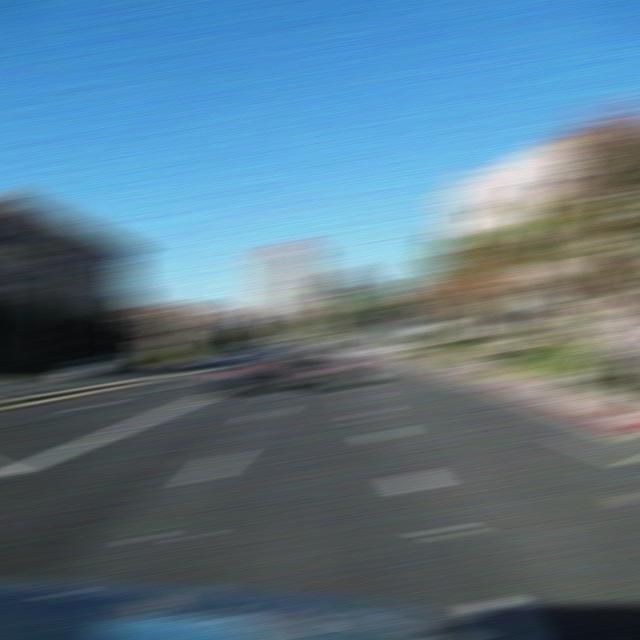speedLimit25: (486, 308, 516, 325)
